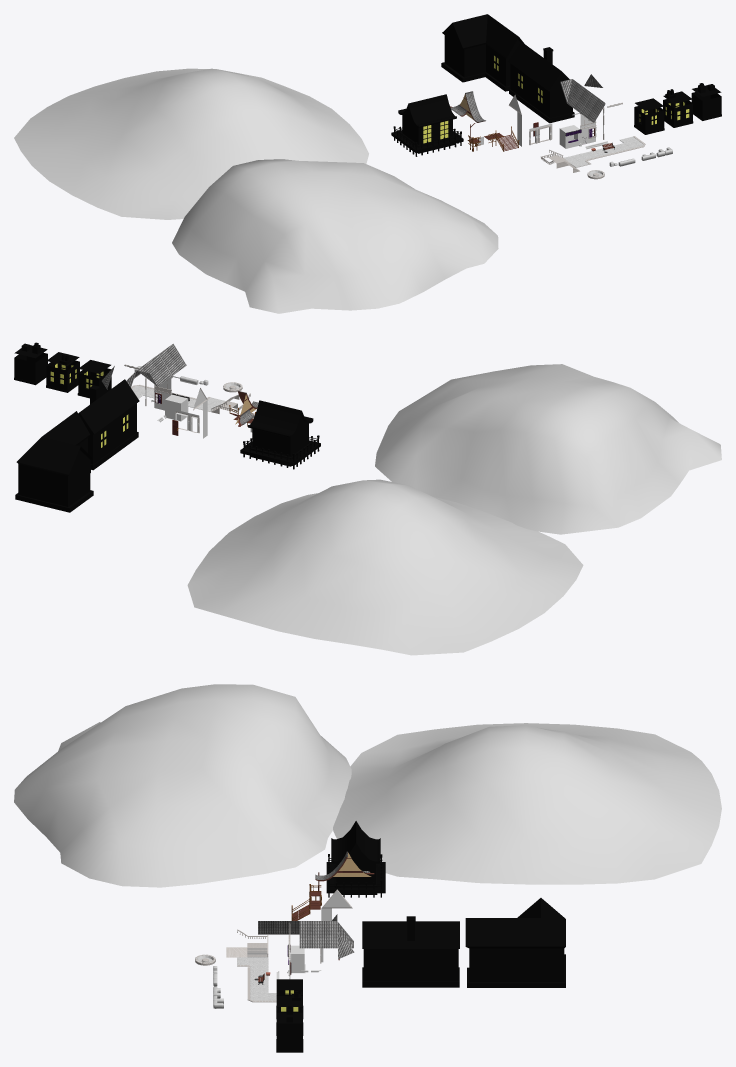
The model's file is World01_Elements.fbx.
The picture shows the model from 3 angles, top to bottom: view 1: azimuth 30°, elevation 25°; view 2: azimuth 150°, elevation 25°; view 3: azimuth 270°, elevation 25°; orthographic projection. The views are drawn at different scales.
Parts seen in each view (by area): view 1: ShadowHill02, ShadowHill01, ShadowHouse02, ShadowHouse01, ShadowAsianHouse, ShadowBuild02, ShadowBuild01, ShadowBuild03; view 2: ShadowHill01, ShadowHill02, ShadowHouse02, ShadowAsianHouse, ShadowHouse01, ShadowBuild03, ShadowBuild01, ShadowBuild02; view 3: ShadowHill01, ShadowHill02, ShadowHouse02, ShadowHouse01, ShadowAsianHouse, ShadowBuild01, H_Roof_SmallMedium.
Boxes of the visible parts, x1,y1,x2,y2 form: ShadowHill02: [172, 159, 498, 313]; ShadowHill01: [14, 68, 368, 219]; ShadowHouse02: [441, 14, 524, 91]; ShadowHouse01: [508, 41, 574, 123]; ShadowAsianHouse: [391, 94, 463, 156]; ShadowBuild02: [634, 106, 664, 134]; ShadowBuild01: [691, 92, 721, 120]; ShadowBuild03: [663, 99, 693, 127]; ShadowHill01: [187, 479, 583, 655]; ShadowHill02: [375, 364, 721, 534]; ShadowHouse02: [15, 411, 93, 512]; ShadowAsianHouse: [240, 400, 320, 469]; ShadowHouse01: [78, 379, 139, 470]; ShadowBuild03: [46, 360, 79, 392]; ShadowBuild01: [14, 352, 47, 385]; ShadowBuild02: [77, 368, 111, 398]; ShadowHill01: [333, 723, 721, 884]; ShadowHill02: [14, 684, 351, 887]; ShadowHouse02: [465, 898, 565, 987]; ShadowHouse01: [362, 921, 459, 987]; ShadowAsianHouse: [326, 821, 385, 897]; ShadowBuild01: [276, 1023, 303, 1052]; H_Roof_SmallMedium: [299, 921, 320, 948].
Bounding box in the file's own units: 149 × 18.79 × 134.
